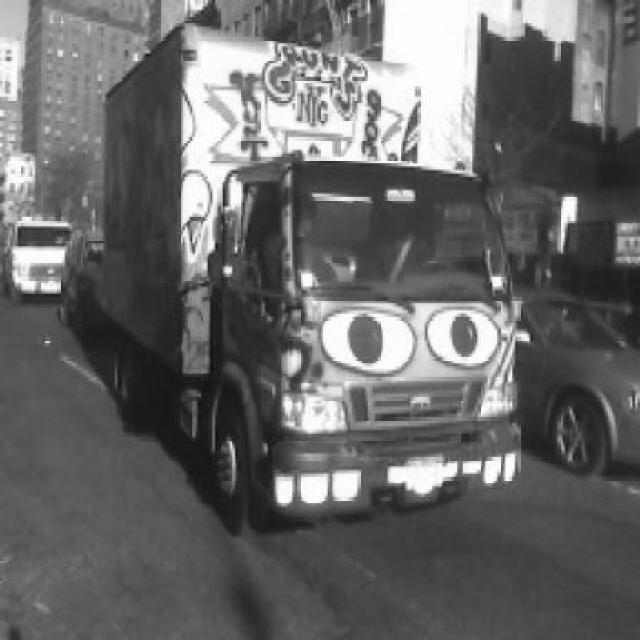Box Truck: (101, 22, 523, 537)
